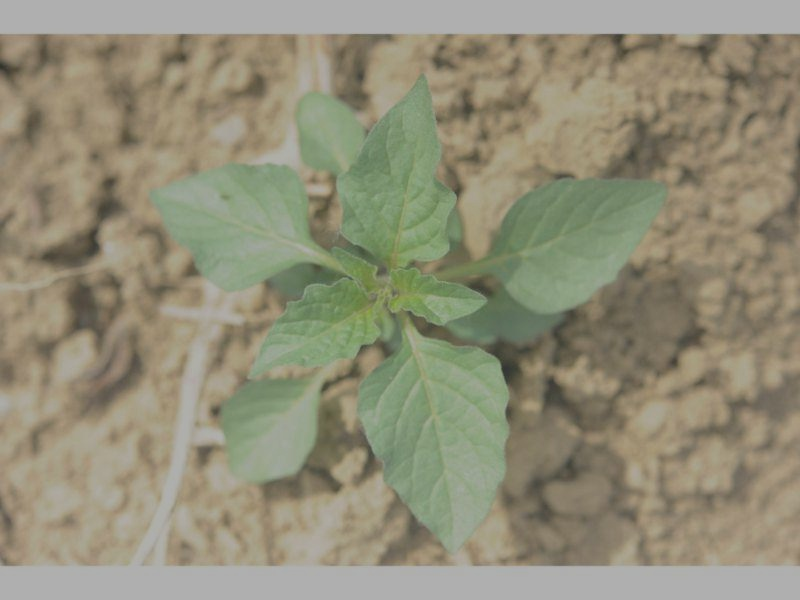nightshade: (148, 69, 670, 550)
